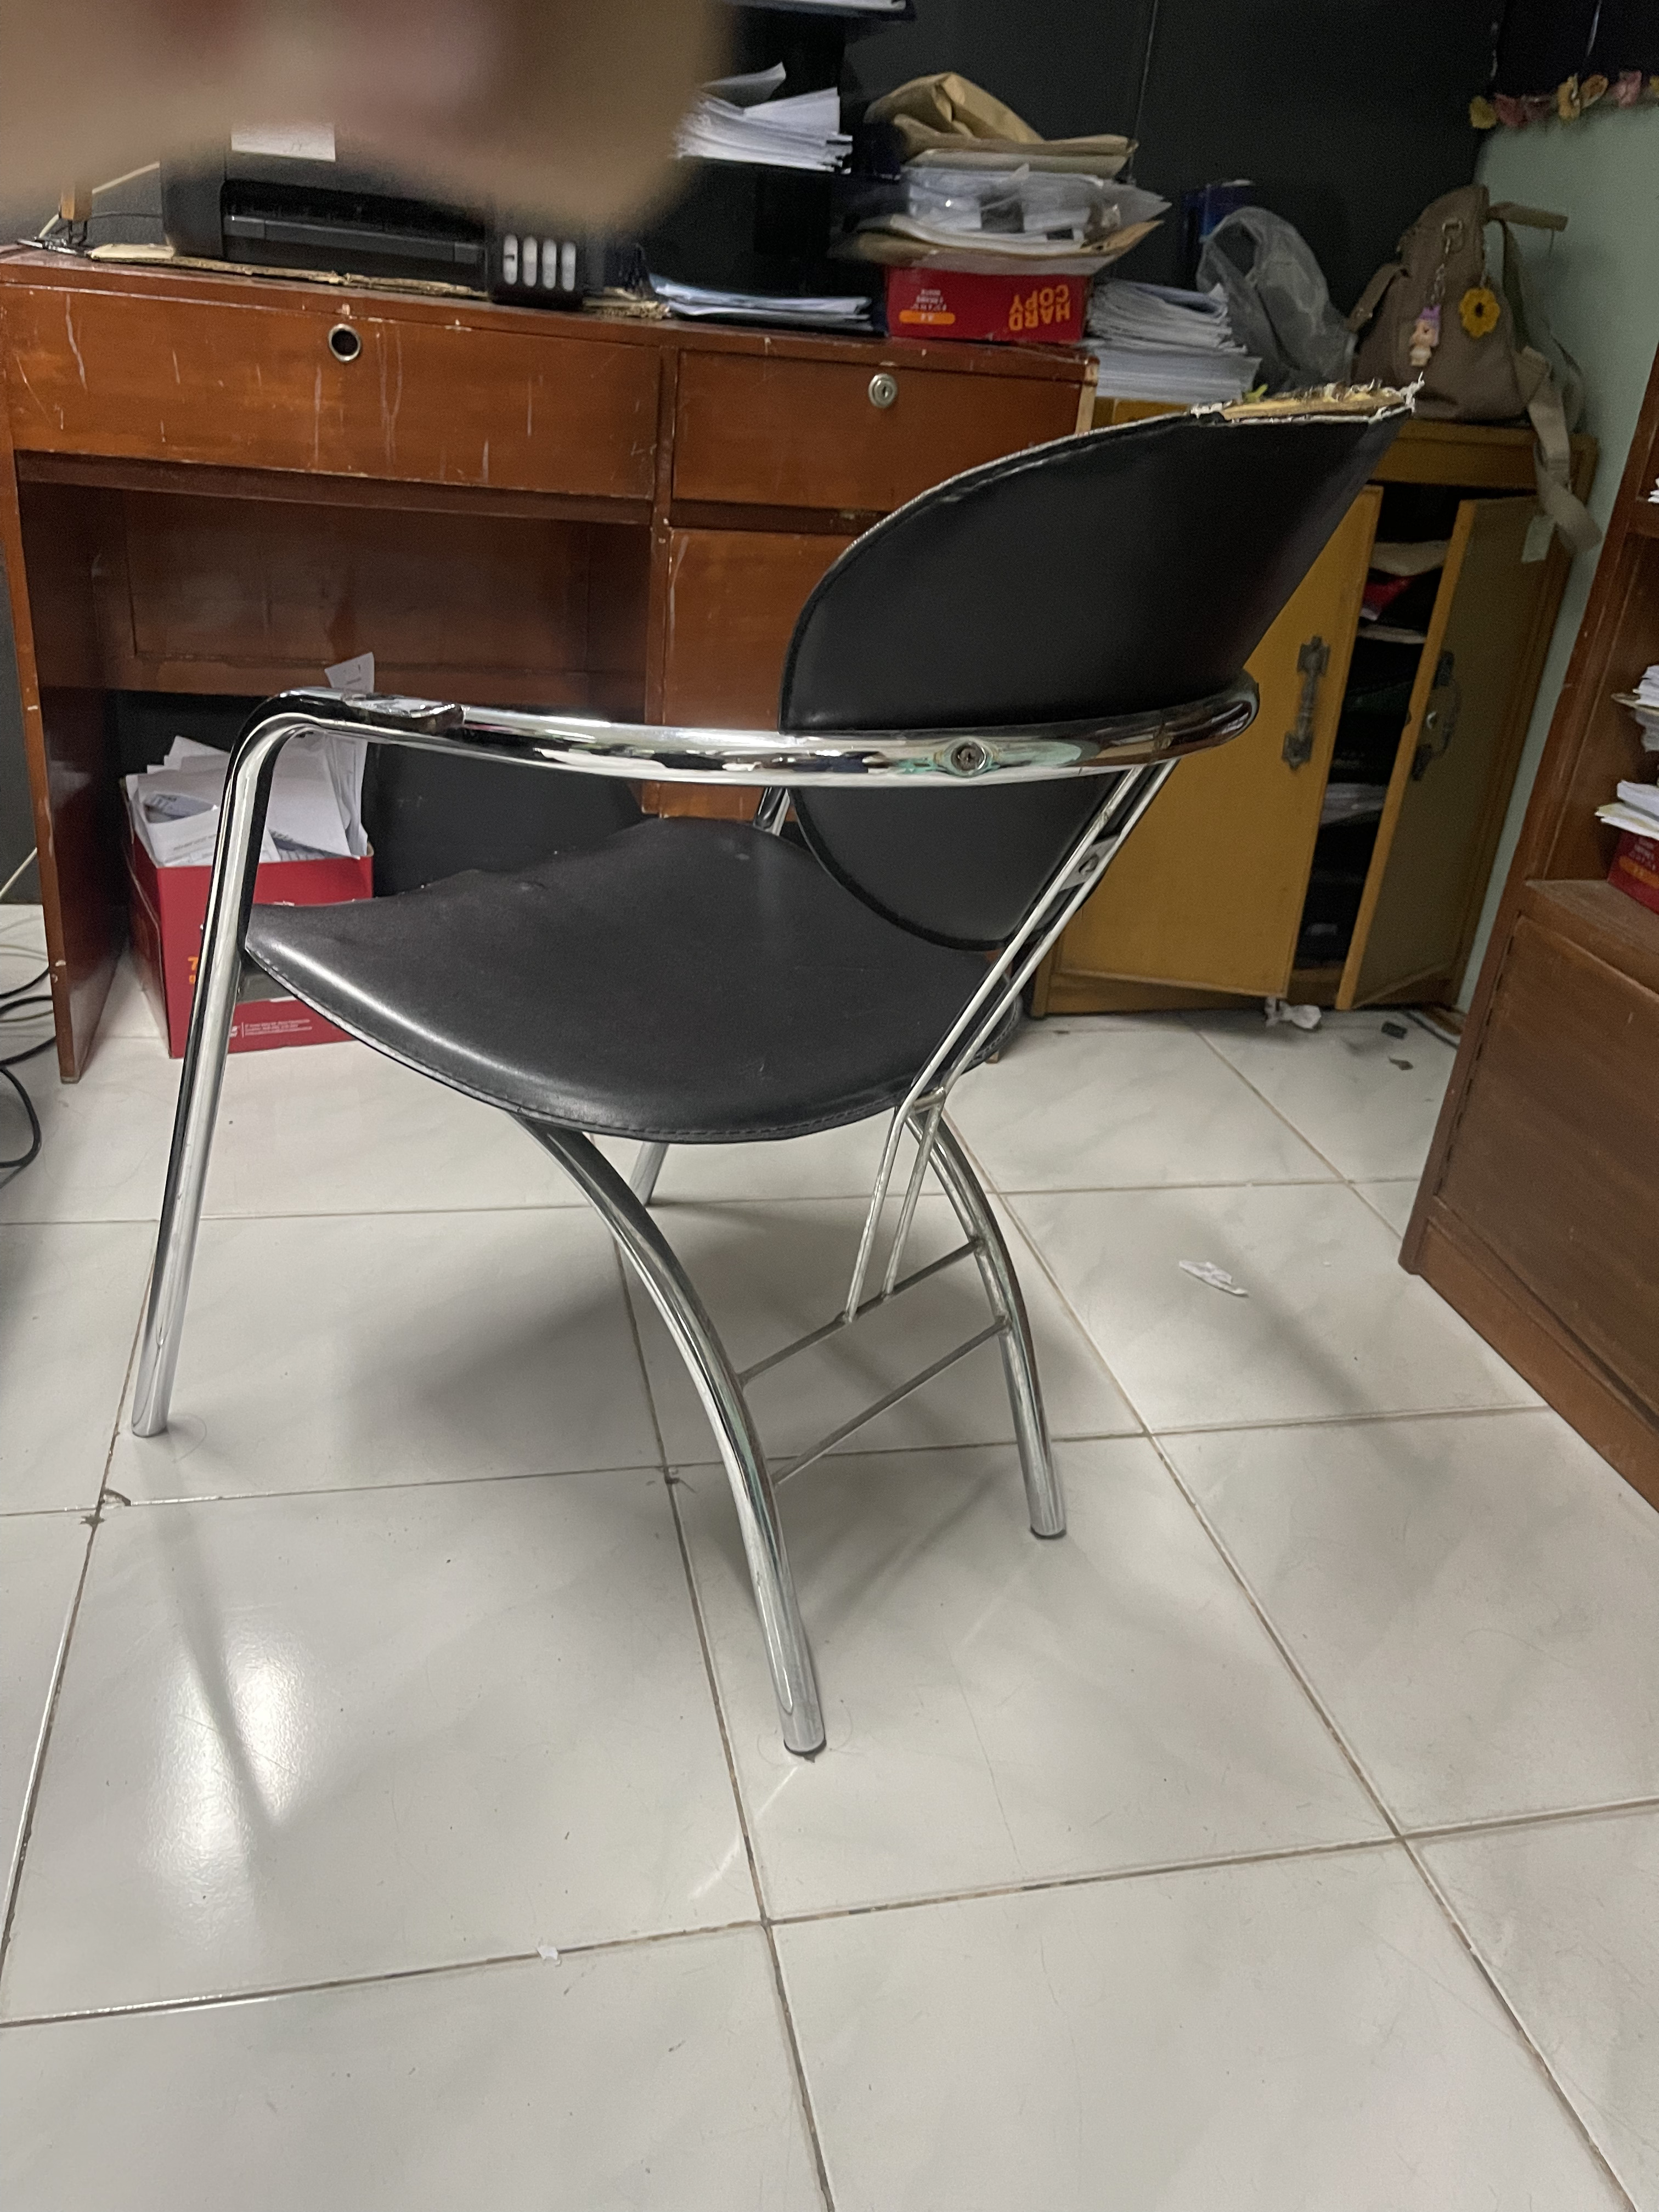chair1: (119, 366, 1431, 1773)
